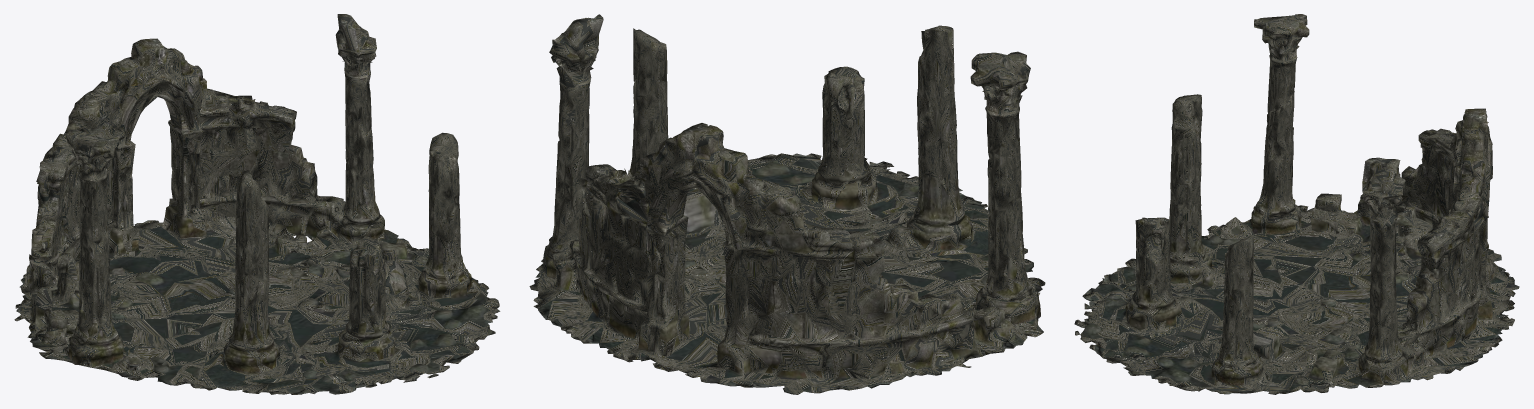
Rendered from flooded-ruin.glb.
3 views of the same model, side by side, from view 1: azimuth 30°, elevation 25°; view 2: azimuth 150°, elevation 25°; view 3: azimuth 270°, elevation 25° (orthographic). The views are drawn at different scales.
Bounding box in the file's own units: 1.89 × 0.9722 × 1.88.
Materials: 1 (1 with a texture image).
